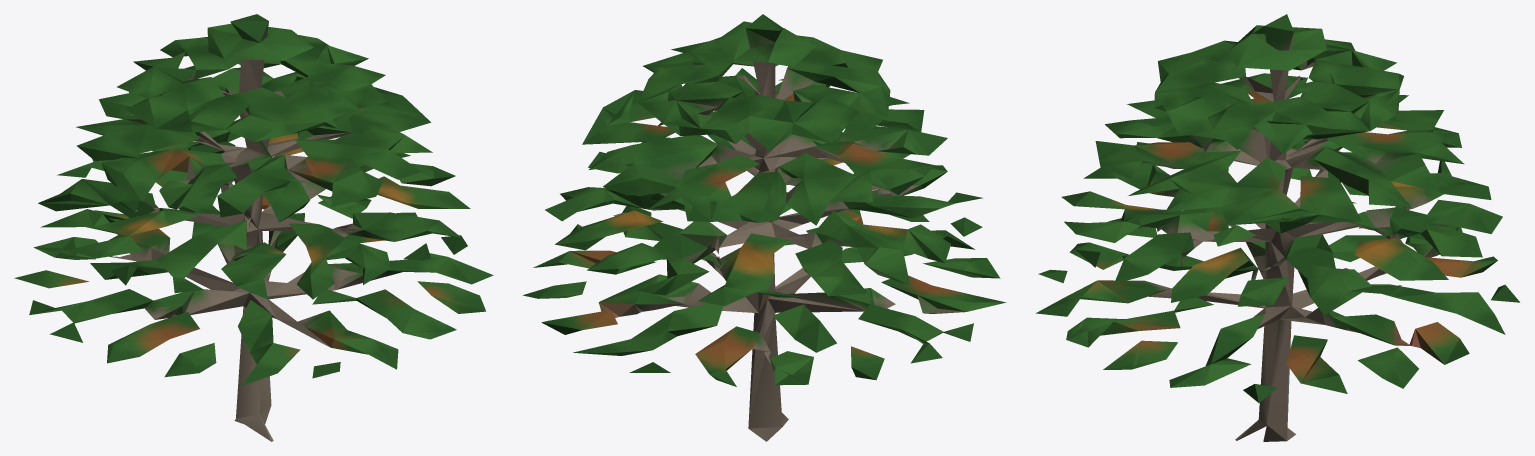
Rendered from cay_bang.far.glb.
3 views of the same model, side by side, from view 1: azimuth 30°, elevation 25°; view 2: azimuth 150°, elevation 25°; view 3: azimuth 270°, elevation 25° (orthographic). The views are drawn at different scales.
Parts seen in each view (by area): view 1: cay_bang; view 2: cay_bang; view 3: cay_bang.
Boxes of the visible parts, box(x1,y1,x2,y2) form: cay_bang: box(14, 14, 493, 441); cay_bang: box(523, 14, 1006, 441); cay_bang: box(1036, 14, 1519, 441).
Bounding box in the file's own units: 9.13 × 8.71 × 9.14.
1 material, 1 textured.
